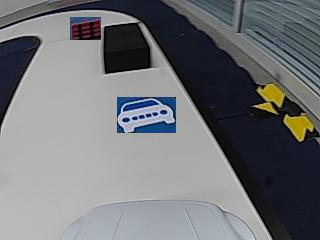block: (102, 21, 151, 73)
